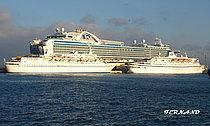Ship: (3, 50, 121, 77), (127, 51, 210, 78)
